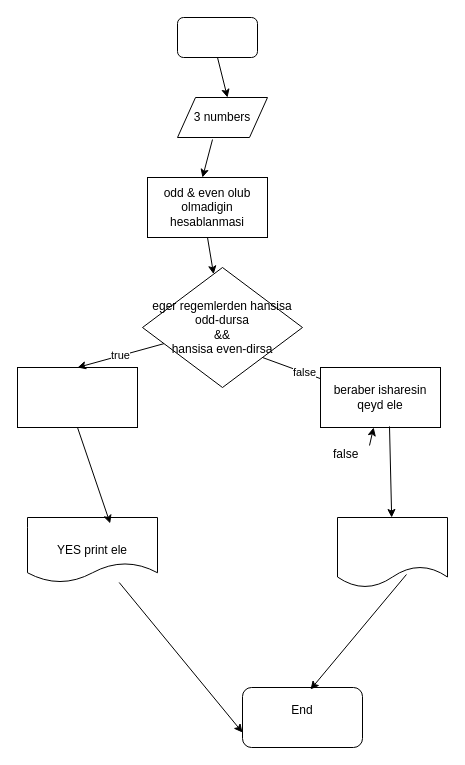
Image size: 465x765. Some labels were removed from this diagram. Here are the shapes that lost their labels. From the top down, the centre of each, then its label:
point 217,37: Begin
point 77,397: Verilen regemler arasinda hem odd hem even oldugunu qeyd ele
point 392,552: NO print ele
